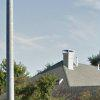Chimney: (58, 43, 81, 70)
